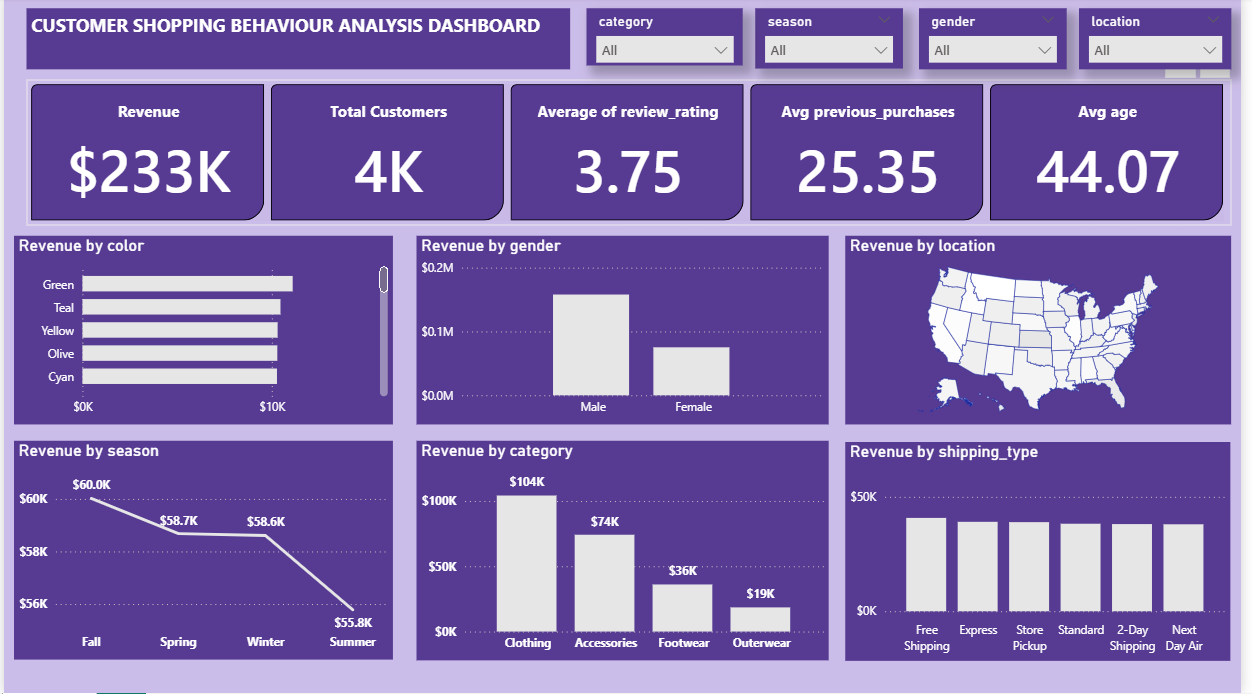

Layout of this report page (visuals, bound fields, positions):
{"tool":"powerbi","page":{"name":"Page 1","canvas":[1280,720],"ordinal":0},"visuals":[{"type":"cardVisual","fields":{"Data":["customer_shopping_behaviour_data.Revenue","customer_shopping_behaviour_data.Total Customers","Avg(customer_shopping_behaviour_data.review_rating)","Avg(customer_shopping_behaviour_data.previous_purchases)","Avg(customer_shopping_behaviour_data.age)"]},"box":[23.3,85.3,1246.6,151.3],"z":0},{"type":"shapeMap","fields":{"Value":["customer_shopping_behaviour_data.Revenue"],"Category":["customer_shopping_behaviour_data.location"]},"box":[870.3,247,399.6,195.3],"z":1000},{"type":"barChart","fields":{"Category":["customer_shopping_behaviour_data.color"],"Y":["customer_shopping_behaviour_data.Revenue"]},"box":[10.3,247,391.8,195.3],"z":2000},{"type":"columnChart","fields":{"Category":["customer_shopping_behaviour_data.gender"],"Y":["customer_shopping_behaviour_data.Revenue"]},"box":[426.7,247,426.7,195.3],"z":3000},{"type":"lineChart","fields":{"Category":["customer_shopping_behaviour_data.season"],"Y":["customer_shopping_behaviour_data.Revenue"]},"box":[10.3,459.1,391.8,226.3],"z":4000},{"type":"columnChart","fields":{"Category":["customer_shopping_behaviour_data.category"],"Y":["customer_shopping_behaviour_data.Revenue"]},"box":[426.7,459.1,426.7,227.6],"z":5000},{"type":"clusteredColumnChart","fields":{"Category":["customer_shopping_behaviour_data.shipping_type"],"Y":["customer_shopping_behaviour_data.Revenue"]},"box":[870.3,460.3,398.3,226.3],"z":6000},{"type":"slicer","fields":{"Values":["customer_shopping_behaviour_data.season"]},"box":[777.2,11.6,152.6,62.1],"z":7000},{"type":"slicer","fields":{"Values":["customer_shopping_behaviour_data.category"]},"box":[602.6,11.6,161.6,59.5],"z":8000},{"type":"slicer","fields":{"Values":["customer_shopping_behaviour_data.gender"]},"box":[946.6,11.6,152.6,63.4],"z":9000},{"type":"textbox","box":[23.3,11.6,562.5,63.4],"z":10000},{"type":"slicer","fields":{"Values":["customer_shopping_behaviour_data.location"]},"box":[1112.1,11.6,157.8,63.4],"z":11000}]}

Visuals, with their boxes in screenshot pixels (x1, y1, x2, y2), scaled from the page's 1280x720 canvas onto the 1252x694 screenshot:
cardVisual - customer_shopping_behaviour_data.Revenue x customer_shopping_behaviour_data.Total Customers: rect(23, 82, 1242, 228)
shapeMap - customer_shopping_behaviour_data.Revenue x customer_shopping_behaviour_data.location: rect(851, 238, 1242, 426)
barChart - customer_shopping_behaviour_data.color x customer_shopping_behaviour_data.Revenue: rect(10, 238, 393, 426)
columnChart - customer_shopping_behaviour_data.gender x customer_shopping_behaviour_data.Revenue: rect(417, 238, 835, 426)
lineChart - customer_shopping_behaviour_data.season x customer_shopping_behaviour_data.Revenue: rect(10, 443, 393, 661)
columnChart - customer_shopping_behaviour_data.category x customer_shopping_behaviour_data.Revenue: rect(417, 443, 835, 662)
clusteredColumnChart - customer_shopping_behaviour_data.shipping_type x customer_shopping_behaviour_data.Revenue: rect(851, 444, 1241, 662)
slicer - customer_shopping_behaviour_data.season: rect(760, 11, 909, 71)
slicer - customer_shopping_behaviour_data.category: rect(589, 11, 747, 69)
slicer - customer_shopping_behaviour_data.gender: rect(926, 11, 1075, 72)
textbox: rect(23, 11, 573, 72)
slicer - customer_shopping_behaviour_data.location: rect(1088, 11, 1242, 72)
